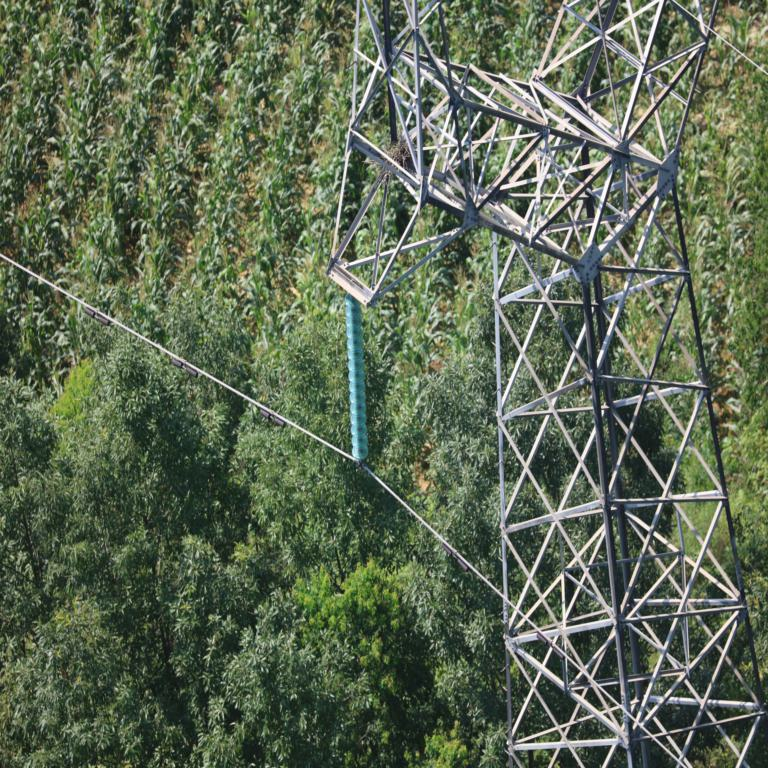nest: (378, 141, 420, 176)
